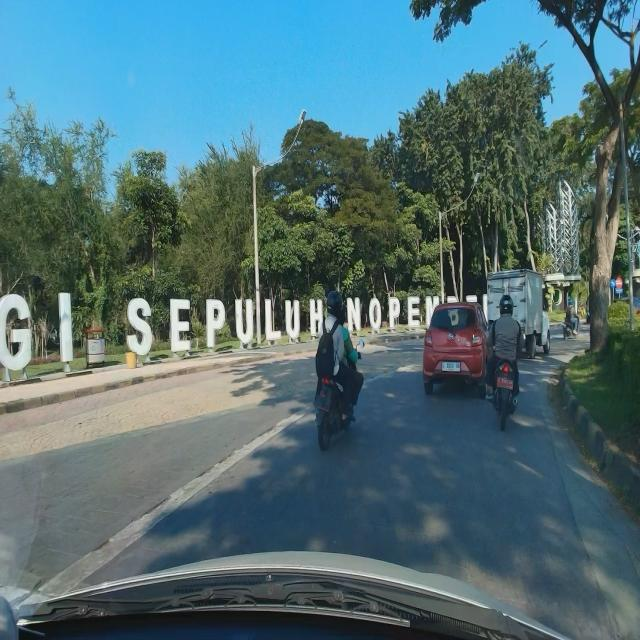car: (422, 300, 494, 395)
license-plate: (442, 362, 460, 372)
truck: (486, 270, 551, 359)
